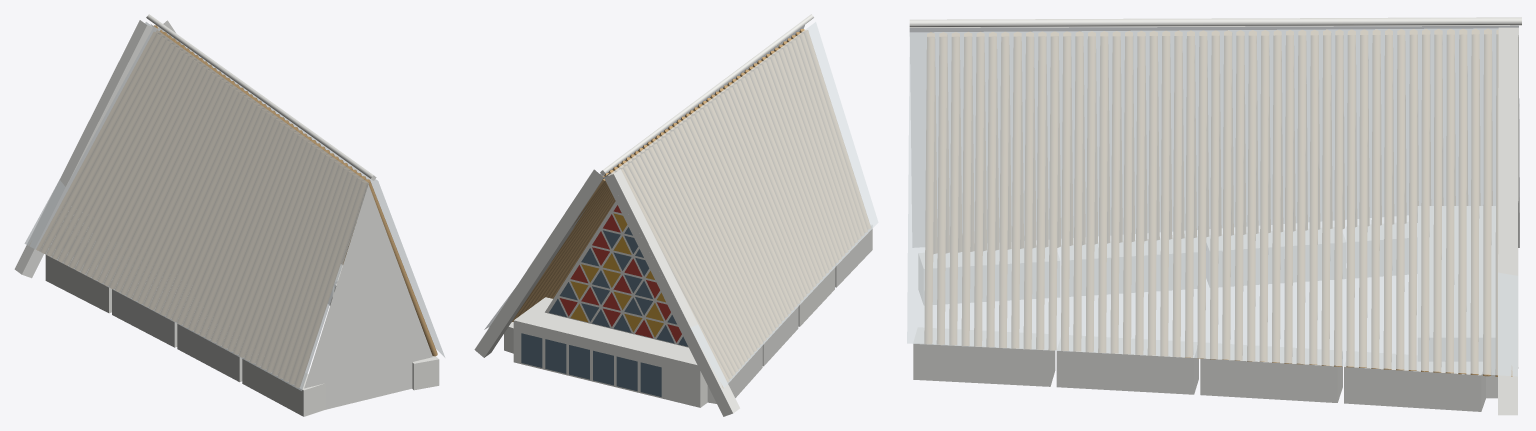
File: christchurch-cardboard-cathedral.glb
3 renders of one model, left to right at view 1: azimuth 30°, elevation 25°; view 2: azimuth 150°, elevation 25°; view 3: azimuth 270°, elevation 25°, orthographic. The views are drawn at different scales.
Parts seen in each view (by area): view 1: Transitional Cathedral (Cardboard Cathedral); view 2: Transitional Cathedral (Cardboard Cathedral); view 3: Transitional Cathedral (Cardboard Cathedral).
Part boxes in pixels (left/top/right/bottom): Transitional Cathedral (Cardboard Cathedral): left=14, top=14, right=445, bottom=416; Transitional Cathedral (Cardboard Cathedral): left=474, top=14, right=878, bottom=416; Transitional Cathedral (Cardboard Cathedral): left=907, top=17, right=1521, bottom=415.
Bounding box in the file's own units: 27.79 × 22.35 × 39.52.
